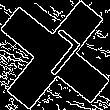L_SW: (27, 26, 83, 84)
